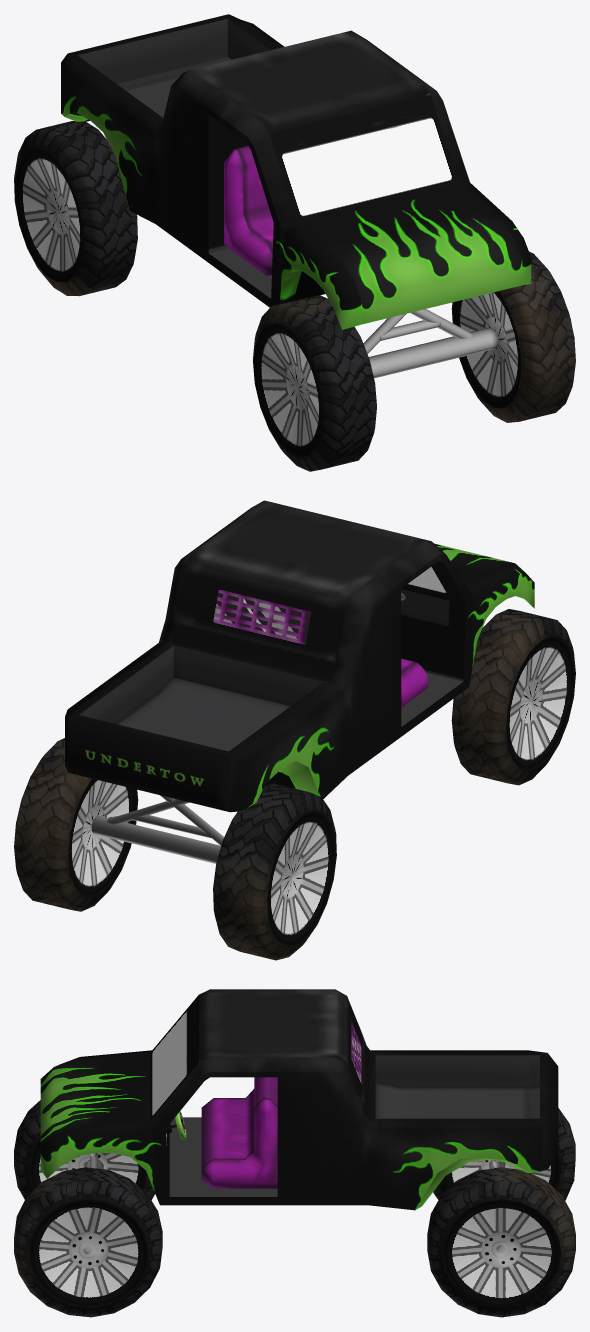
Rendered from rc_car.fbx.
3 views of the same model, one above another, from view 1: azimuth 30°, elevation 25°; view 2: azimuth 150°, elevation 25°; view 3: azimuth 270°, elevation 25° (orthographic). The views are drawn at different scales.
Parts seen in each view (by area): view 1: Truck, polySurface2 (×3), polySurface3 (×3), InsideFrontMirror, Seat, pCylinder1, pCylinder3; view 2: Truck, polySurface2 (×3), polySurface3 (×3), pCylinder8, Seat, InsideFrontMirror, pCylinder5, pCylinder6, pCylinder7; view 3: Truck, polySurface1 (×4), polySurface2 (×4), Seat, InsideFrontMirror.
Part boxes in pixels (bbox=[...]): Truck: bbox=[61, 14, 531, 329]; polySurface2 (×3): bbox=[14, 121, 575, 471]; polySurface3 (×3): bbox=[14, 148, 521, 457]; InsideFrontMirror: bbox=[269, 94, 458, 221]; Seat: bbox=[224, 145, 273, 275]; pCylinder1: bbox=[369, 327, 498, 378]; pCylinder3: bbox=[410, 309, 472, 338]; Truck: bbox=[65, 500, 534, 812]; polySurface2 (×3): bbox=[14, 609, 575, 960]; polySurface3 (×3): bbox=[68, 636, 575, 945]; pCylinder8: bbox=[91, 816, 220, 863]; Seat: bbox=[401, 658, 427, 707]; InsideFrontMirror: bbox=[404, 564, 453, 598]; pCylinder5: bbox=[106, 799, 189, 824]; pCylinder6: bbox=[130, 815, 214, 838]; pCylinder7: bbox=[159, 795, 224, 845]; Truck: bbox=[40, 989, 558, 1210]; polySurface1 (×4): bbox=[28, 1137, 561, 1307]; polySurface2 (×4): bbox=[14, 1100, 575, 1317]; Seat: bbox=[201, 1077, 277, 1188]; InsideFrontMirror: bbox=[150, 995, 198, 1120].
Size of the model in its own units: 3.03 by 3.24 by 6.76.
